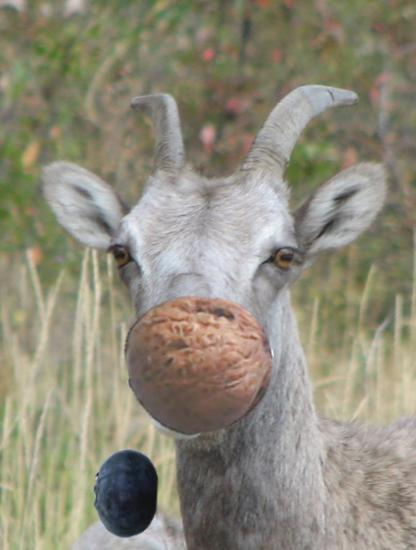Blueberry: (81, 449, 170, 538)
Walnut: (125, 290, 274, 439)
